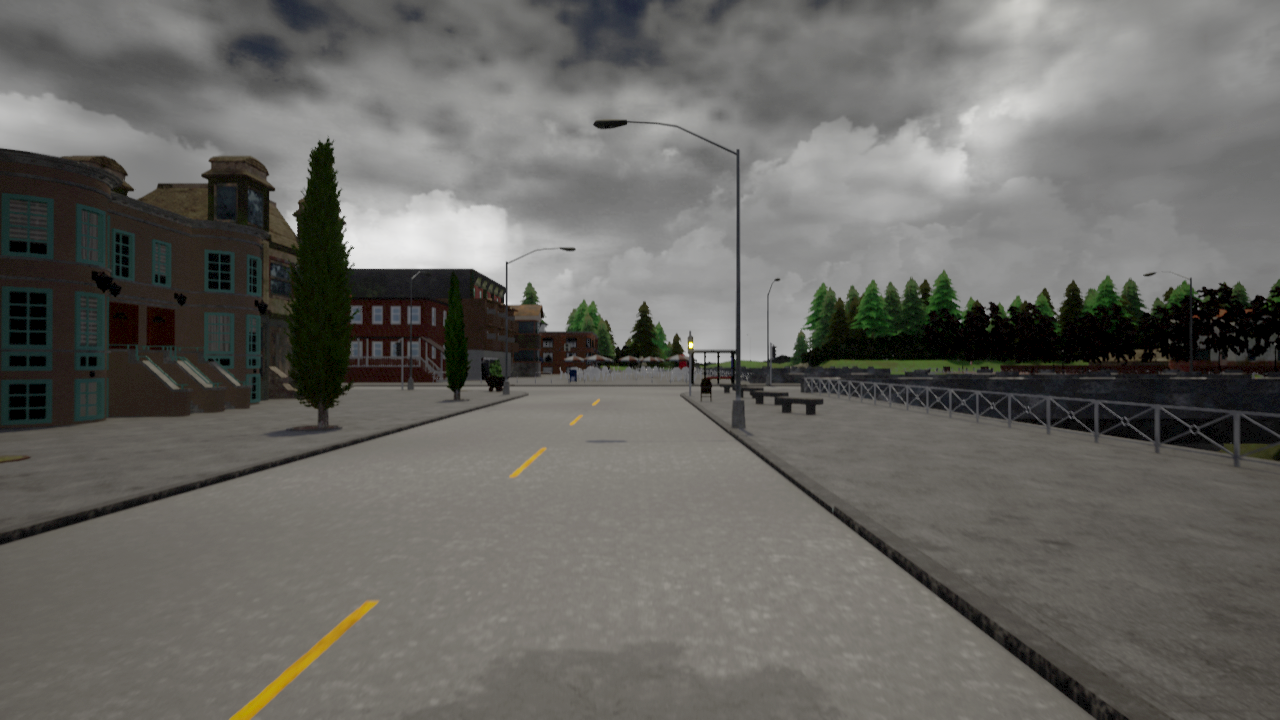yellow: (686, 335, 696, 354)
